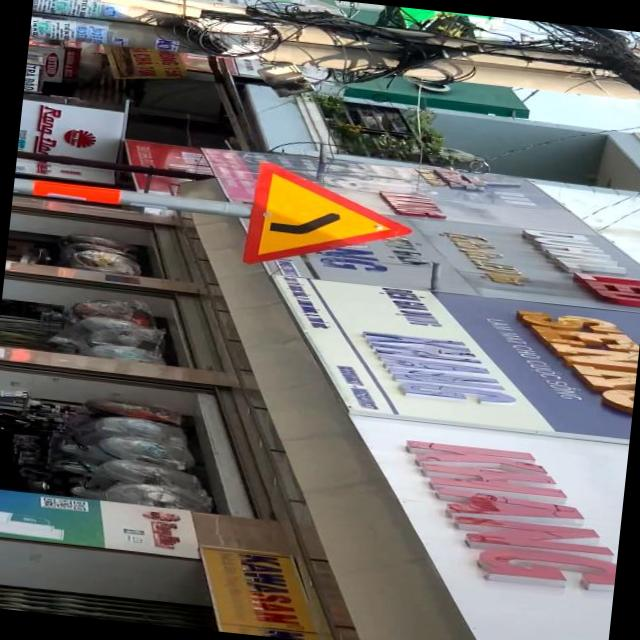W-201a: (240, 160, 414, 282)
